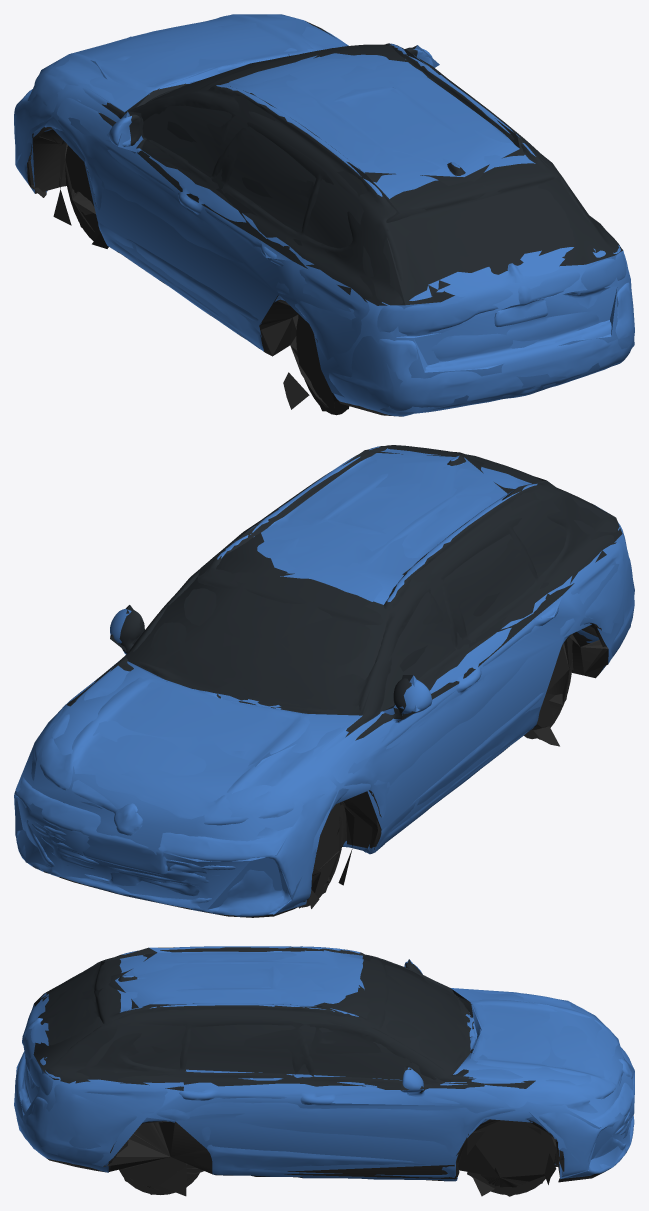
File: volkswagen-passat.glb
The picture shows the model from 3 angles, top to bottom: view 1: azimuth 30°, elevation 25°; view 2: azimuth 150°, elevation 25°; view 3: azimuth 270°, elevation 25°; orthographic projection. The views are drawn at different scales.
Visible parts, largest first — view 1: body, far; view 2: body, far; view 3: body, far.
Part boxes in pixels (bbox=[...]): body: bbox=[14, 14, 634, 416]; far: bbox=[15, 14, 634, 412]; body: bbox=[14, 445, 634, 917]; far: bbox=[15, 449, 634, 914]; body: bbox=[15, 946, 634, 1195]; far: bbox=[14, 947, 634, 1196].
Size of the model in its own units: 2.25 by 1.59 by 4.92.
